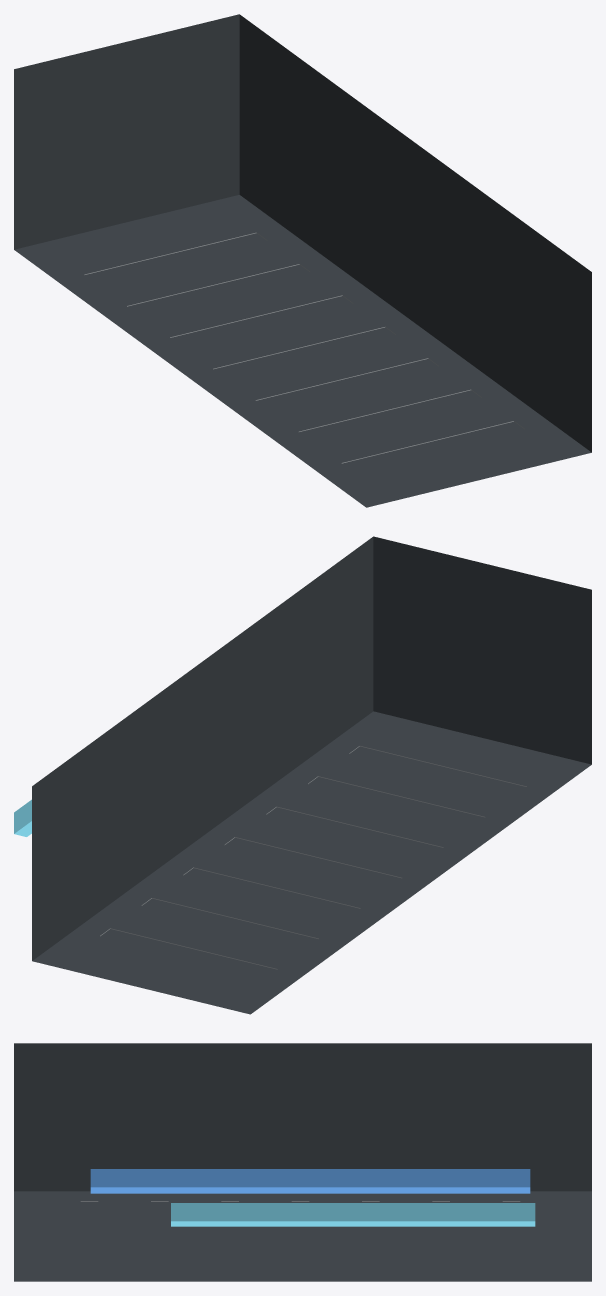
Rendered from server_rack.glb.
The picture shows the model from 3 angles, top to bottom: view 1: azimuth 30°, elevation 25°; view 2: azimuth 150°, elevation 25°; view 3: azimuth 270°, elevation 25°; orthographic projection. The views are drawn at different scales.
Visible parts, largest first — view 1: server_rack_body; view 2: server_rack_body; view 3: server_rack_body, server_rack_cable_a, server_rack_cable_b.
Boxes of the visible parts, <box> form: server_rack_body: <box>14,14,591,507</box>; server_rack_body: <box>32,536,591,1014</box>; server_rack_body: <box>14,1043,591,1281</box>; server_rack_cable_a: <box>90,1169,530,1193</box>; server_rack_cable_b: <box>171,1203,535,1226</box>.
Bounding box in the file's own units: 1.05 × 0.689 × 2.3.
